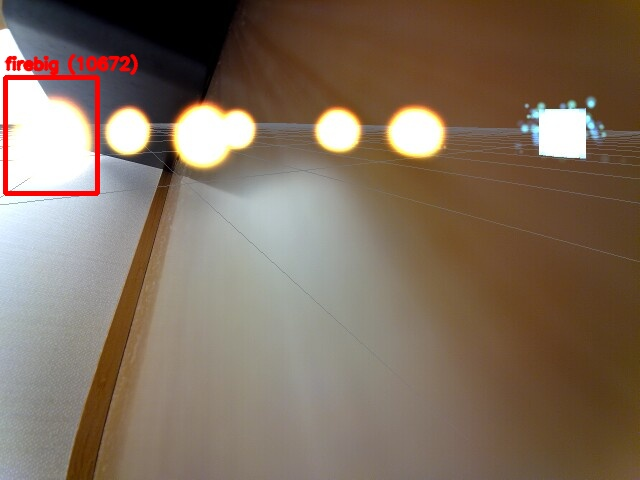firebig: (5, 77, 97, 193)
